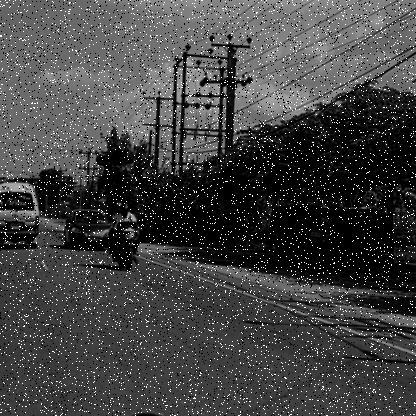motorcycle: (107, 226, 145, 276)
